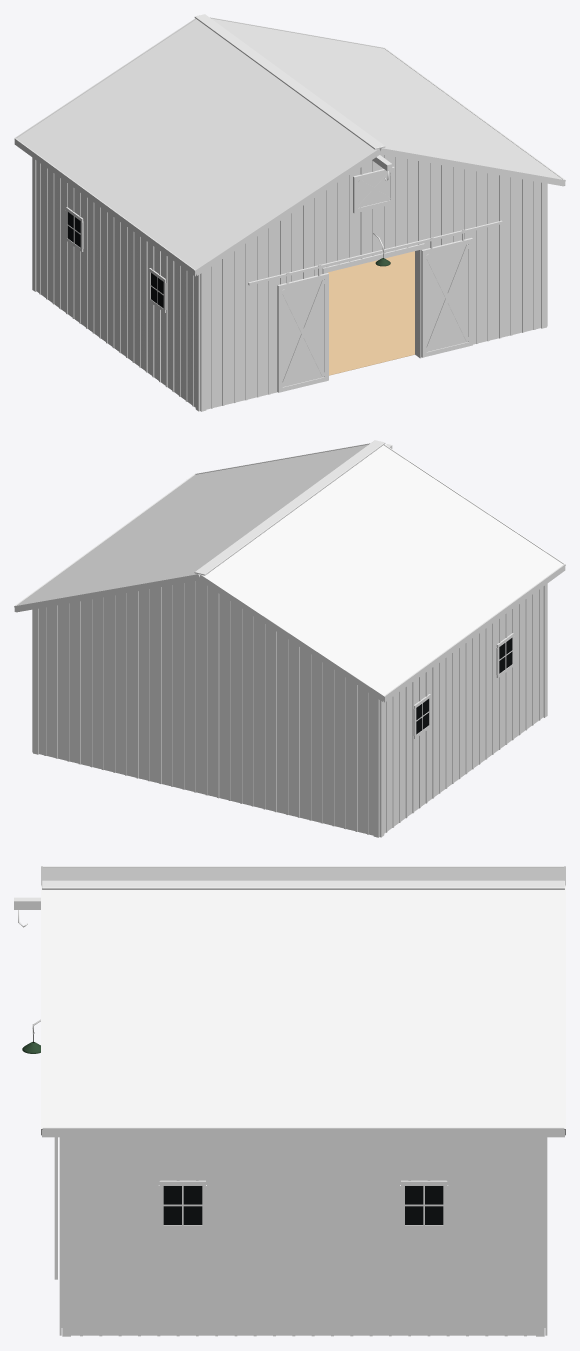
The model's file is barn.glb.
The picture shows the model from 3 angles, top to bottom: view 1: azimuth 30°, elevation 25°; view 2: azimuth 150°, elevation 25°; view 3: azimuth 270°, elevation 25°; orthographic projection. The views are drawn at different scales.
Visible parts, largest first — view 1: barn_mesh; view 2: barn_mesh; view 3: barn_mesh.
Part boxes in pixels (bbox=[...]): barn_mesh: bbox=[14, 14, 565, 411]; barn_mesh: bbox=[14, 440, 565, 837]; barn_mesh: bbox=[14, 866, 565, 1336].
Bounding box in the file's own units: 12.87 × 7.53 × 11.44.
